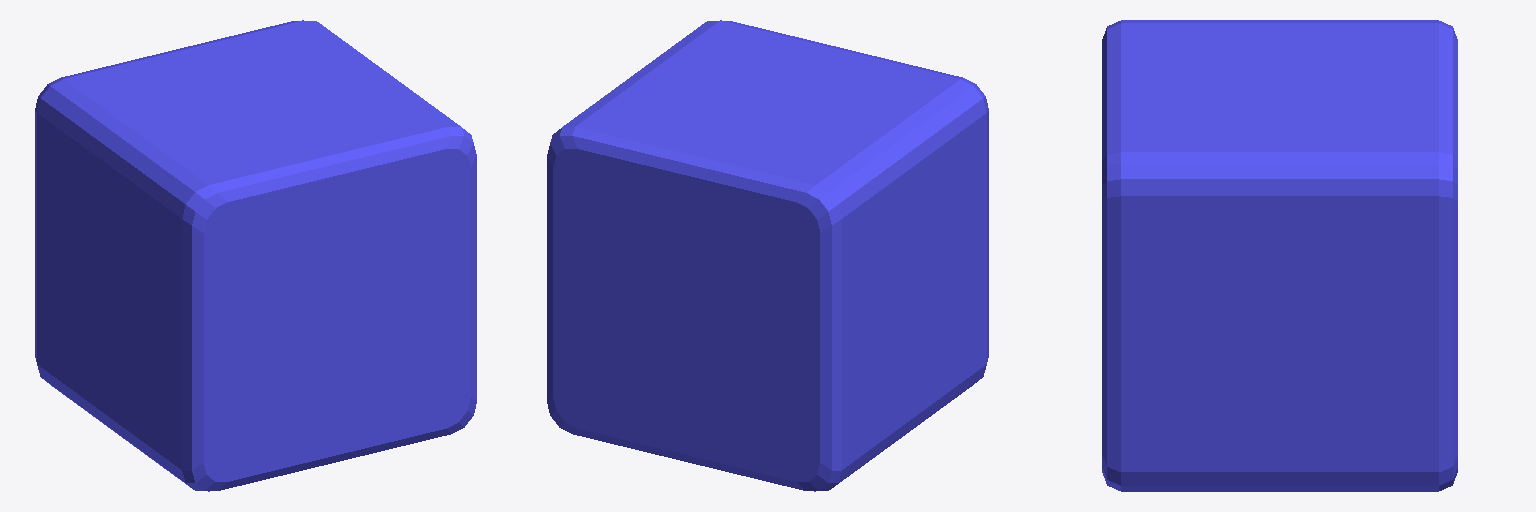
The robot description file, URDF, robot "blue_cube.urdf":
<?xml version="1.0" ?>
<robot name="blue_cube.urdf">
  <link name="baseLink">
    <contact>
      <lateral_friction value="0.5"/>
      <rolling_friction value="0.0001"/>
      <inertia_scaling value="1.0"/>
    </contact>
    <inertial>
      <origin rpy="0 0 0" xyz="0 0 0"/>
       <mass value=".01"/>
       <inertia ixx="1" ixy="0" ixz="0" iyy="1" iyz="0" izz="1"/>
    </inertial>
    <visual>
      <origin rpy="0 0 0" xyz="0 0 0"/>
      <geometry>
        <mesh filename="cube.obj" scale="1.0 1.0 1.0"/>
      </geometry>
       <material name="blue">
        <color rgba="0.4 0.4 1.0 1"/>
      </material>
    </visual>
    <collision>
      <origin rpy="0 0 0" xyz="0 0 0"/>
      <geometry>
        <mesh filename="cube.obj" scale="1.0 1.0 1.0"/>
      </geometry>
    </collision>
  </link>
</robot>

--- What the picture shows (computed from the rendered views, not written in the file) ---
The picture shows the robot from 3 angles, left to right: view 1: azimuth 30°, elevation 25°; view 2: azimuth 150°, elevation 25°; view 3: azimuth 270°, elevation 25°; orthographic projection.
Model blue_cube.urdf with 1 links and 0 joints (none), rooted at baseLink, posed all joints at 0.
Links seen in each view (by area): view 1: baseLink; view 2: baseLink; view 3: baseLink.
Boxes of the visible links, box(x1,y1,x2,y2) form: baseLink: box(35, 20, 476, 491); baseLink: box(547, 20, 988, 491); baseLink: box(1102, 20, 1457, 491).
Bounding box of the posed robot: 0.0397 × 0.0381 × 0.0397 m (x, y, z).
1 mesh visuals loaded from 1 distinct referenced files (1 OBJ).